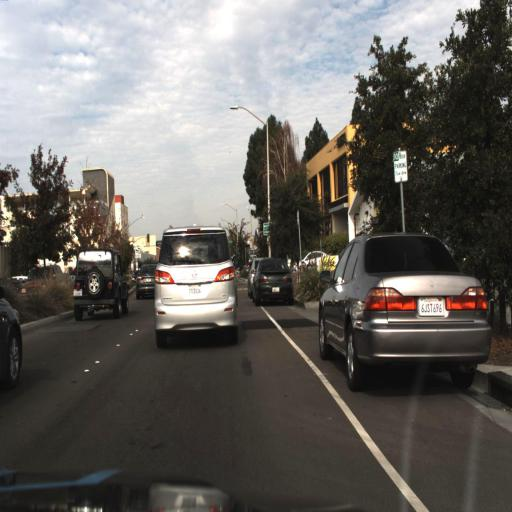car: (301, 215, 496, 410), (150, 208, 241, 357), (63, 241, 137, 329), (69, 245, 130, 317), (0, 285, 30, 407), (0, 278, 28, 398), (244, 247, 295, 307), (126, 254, 167, 307)
